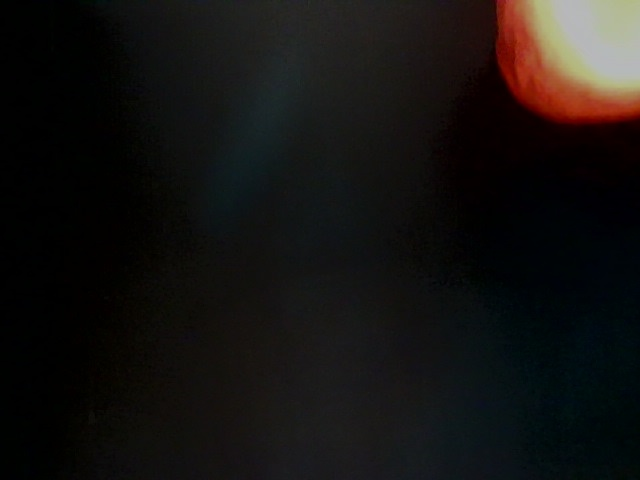CYLJ: (149, 292, 270, 402)
